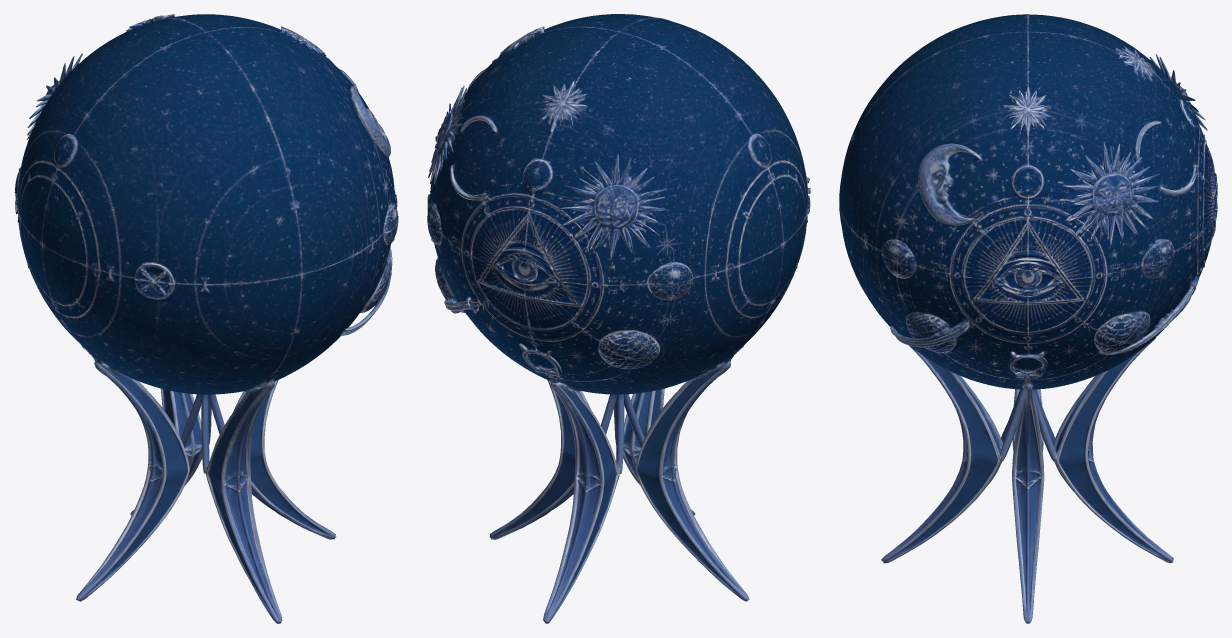
File: ball.glb
The picture shows the model from 3 angles, left to right: view 1: azimuth 30°, elevation 25°; view 2: azimuth 150°, elevation 25°; view 3: azimuth 270°, elevation 25°; orthographic projection.
Visible parts, largest first — view 1: tripo_node_7c92aafd-858e-4626-97f5-1bdcd3f34eea; view 2: tripo_node_7c92aafd-858e-4626-97f5-1bdcd3f34eea; view 3: tripo_node_7c92aafd-858e-4626-97f5-1bdcd3f34eea.
Part boxes in pixels (x1=…): tripo_node_7c92aafd-858e-4626-97f5-1bdcd3f34eea: x1=14, y1=14, x2=398, y2=623; tripo_node_7c92aafd-858e-4626-97f5-1bdcd3f34eea: x1=427, y1=14, x2=810, y2=623; tripo_node_7c92aafd-858e-4626-97f5-1bdcd3f34eea: x1=839, y1=14, x2=1217, y2=623.
Bounding box in the file's own units: 0.6266 × 0.9776 × 0.6317.
1 material, 1 textured.
